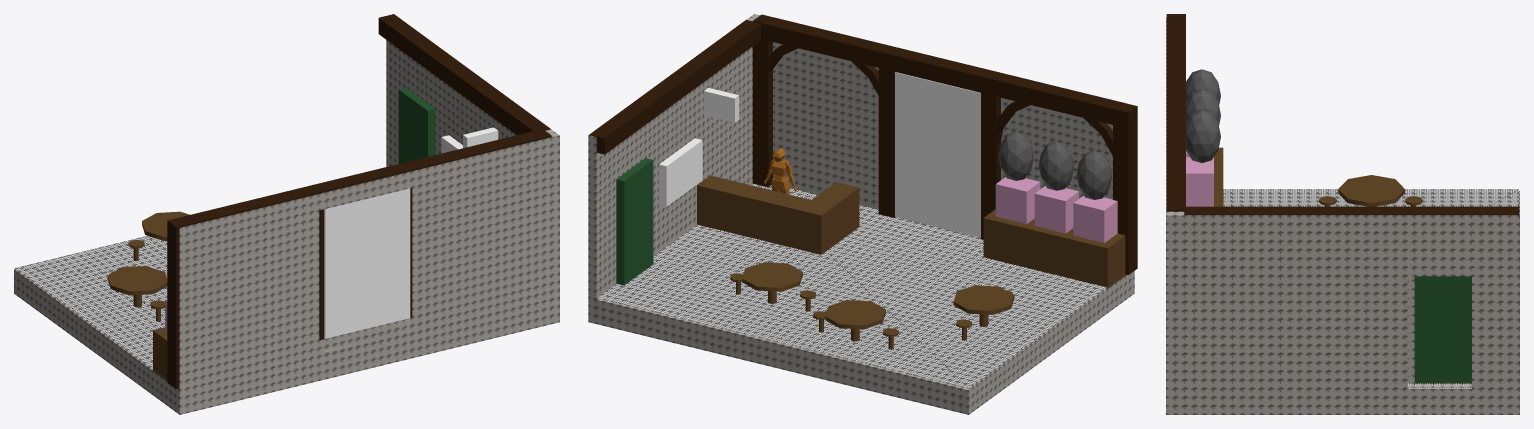
The model's file is Storefront (1).fbx.
3 views of the same model, side by side, from view 1: azimuth 30°, elevation 25°; view 2: azimuth 150°, elevation 25°; view 3: azimuth 270°, elevation 25° (orthographic). The views are drawn at different scales.
Visible parts, largest first — view 1: Storefront__1_, Painting_Door, Floor_Front, Cube__6_, Cube__4_, Green_Door, Cube__2_, Table__2_, Table__1_, Drink_Stand, Cube__1_, ShopSign; view 2: Storefront__1_, Floor_Front, Painting_Door, Counter, Cube__4_, Drink_Stand, Cube__6_, Green_Door, Cube__2_, Cube__3_, Cube_1, Cube__1_ (+13 smaller); view 3: Storefront__1_, Green_Door, Floor_Front, Cube__4_, Cube__6_, Table__2_, Bottle01, Drink_Dispenser, Bottle01__1_, Bottle01__2_, Drink_Stand.
Boxes of the visible parts, <box> form: Storefront__1_: <box>14,40,559,414</box>; Painting_Door: <box>324,187,410,351</box>; Floor_Front: <box>15,236,167,375</box>; Cube__6_: <box>378,14,550,134</box>; Cube__4_: <box>181,132,537,225</box>; Green_Door: <box>398,88,435,163</box>; Cube__2_: <box>167,217,191,389</box>; Table__2_: <box>107,266,167,295</box>; Table__1_: <box>142,211,189,240</box>; Drink_Stand: <box>153,327,167,380</box>; Cube__1_: <box>309,191,323,340</box>; ShopSign: <box>463,127,498,148</box>; Storefront__1_: <box>588,14,1134,414</box>; Floor_Front: <box>597,183,1121,388</box>; Painting_Door: <box>895,72,980,237</box>; Counter: <box>697,175,859,254</box>; Cube__4_: <box>766,17,1123,124</box>; Drink_Stand: <box>983,209,1126,288</box>; Cube__6_: <box>589,20,760,154</box>; Green_Door: <box>616,158,653,285</box>; Cube__2_: <box>1113,103,1137,274</box>; Cube__3_: <box>752,14,774,186</box>; Cube_1: <box>878,52,894,217</box>; Cube__1_: <box>980,76,1000,239</box>; Storefront__1_: <box>1166,17,1519,414</box>; Green_Door: <box>1414,276,1471,383</box>; Floor_Front: <box>1223,189,1518,387</box>; Cube__4_: <box>1166,20,1185,202</box>; Cube__6_: <box>1184,206,1519,215</box>; Table__2_: <box>1338,175,1404,206</box>; Bottle01: <box>1186,110,1220,162</box>; Drink_Dispenser: <box>1186,157,1213,206</box>; Bottle01__1_: <box>1186,89,1220,125</box>; Bottle01__2_: <box>1186,69,1220,104</box>; Drink_Stand: <box>1214,147,1223,206</box>.
Bounding box in the file's own units: 98840 × 46440 × 74000.
Materials: 12 (2 with a texture image).
